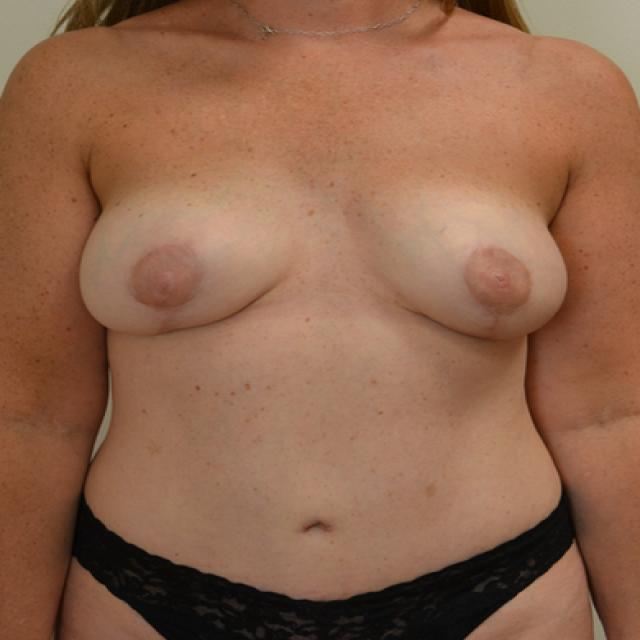Seno herido: (335, 173, 574, 353), (74, 164, 306, 349)
